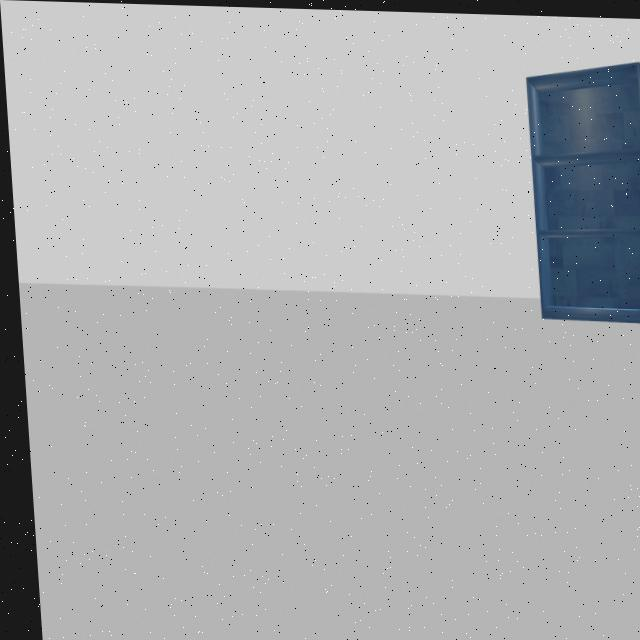shelf: (519, 47, 640, 334)
